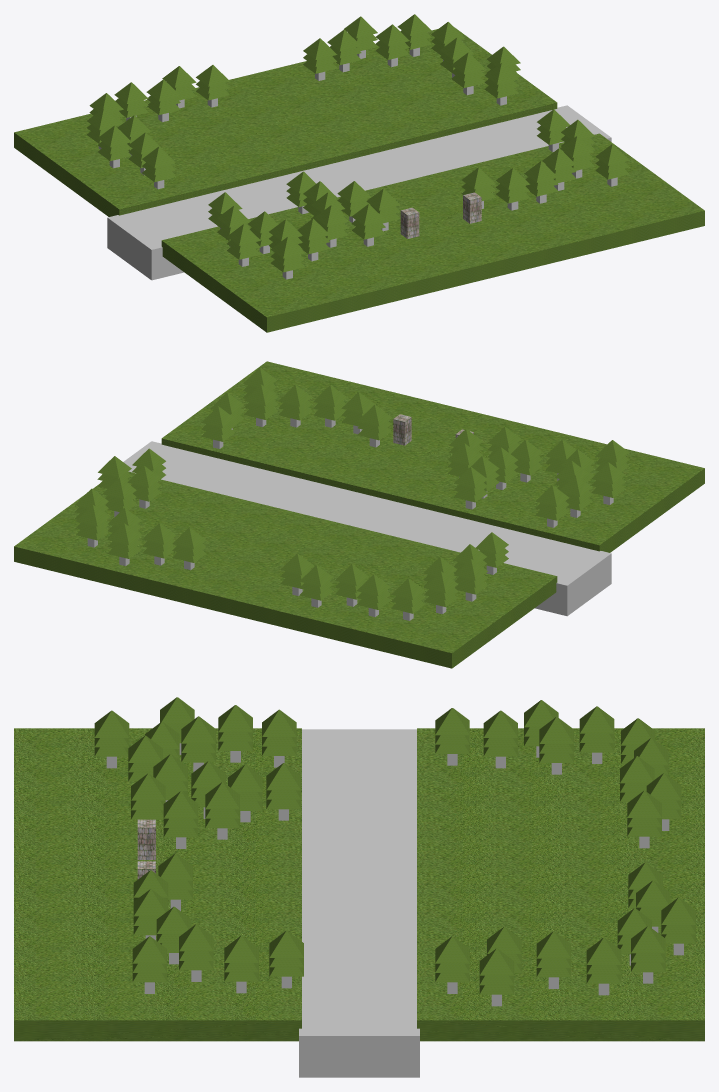
The model's file is Sougen_1_2.fbx.
The picture shows the model from 3 angles, top to bottom: view 1: azimuth 30°, elevation 25°; view 2: azimuth 150°, elevation 25°; view 3: azimuth 270°, elevation 25°; orthographic projection. The views are drawn at different scales.
Parts seen in each view (by area): view 1: Box001, Box024, Box166, Box165; view 2: Box001, Box024, Box165; view 3: Box001, Box024, Box056, Box174, Box166, Box156, Box072, Box112, Box124, Box186, Box190, Box036 (+33 smaller).
Boxes of the visible parts, x1=… form: Box001: x1=14, y1=27, x2=704, y2=332; Box024: x1=107, y1=105, x2=611, y2=280; Box166: x1=400, y1=207, x2=419, y2=238; Box165: x1=463, y1=192, x2=481, y2=223; Box001: x1=14, y1=361, x2=704, y2=668; Box024: x1=123, y1=441, x2=611, y2=616; Box165: x1=393, y1=414, x2=411, y2=445; Box001: x1=14, y1=728, x2=704, y2=1041; Box024: x1=299, y1=729, x2=419, y2=1077; Box056: x1=435, y1=708, x2=469, y2=735; Box174: x1=163, y1=791, x2=198, y2=818; Box166: x1=137, y1=819, x2=155, y2=859; Box156: x1=218, y1=705, x2=252, y2=732; Box072: x1=579, y1=706, x2=614, y2=733; Box112: x1=631, y1=926, x2=665, y2=953; Box124: x1=479, y1=948, x2=514, y2=975; Box186: x1=266, y1=763, x2=300, y2=790; Box190: x1=205, y1=782, x2=239, y2=809; Box036: x1=179, y1=924, x2=213, y2=951.
Bounding box in the file's own units: 315 × 300 × 50.49.
